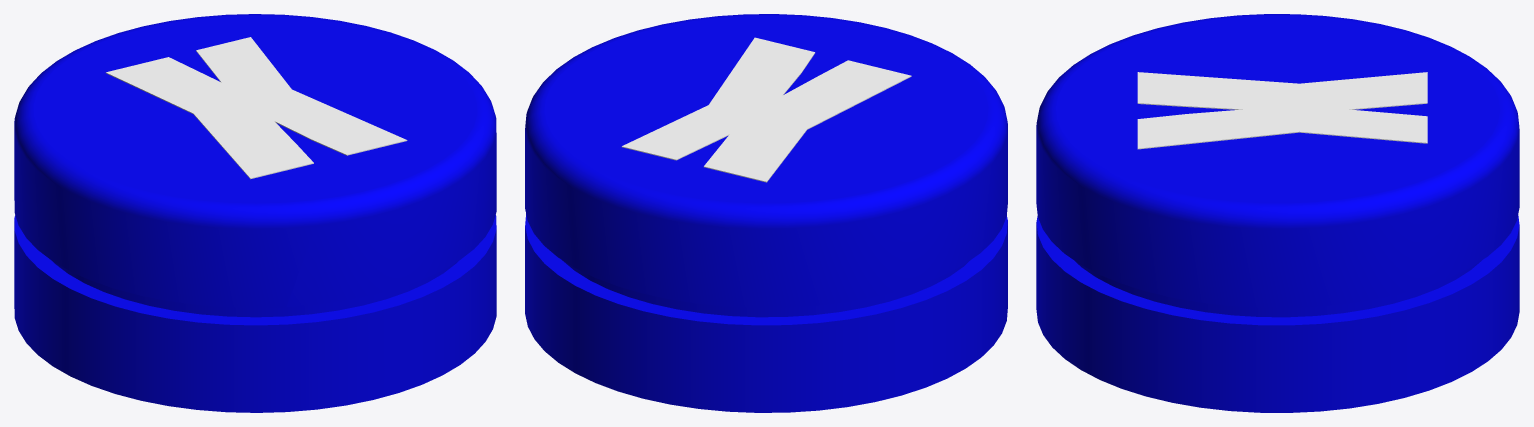
File: nubot_frame10_blue.dae
3 views of the same model, side by side, from view 1: azimuth 30°, elevation 25°; view 2: azimuth 150°, elevation 25°; view 3: azimuth 270°, elevation 25° (orthographic).
Parts seen in each view (by area): view 1: SketchUp (×3), X; view 2: SketchUp (×3), X; view 3: SketchUp (×3), X.
Boxes of the visible parts, x1,y1,x2,y2 form: SketchUp (×3): (14,14,496,412); X: (105,37,407,179); SketchUp (×3): (525,14,1007,412); X: (621,37,911,182); SketchUp (×3): (1036,14,1519,412); X: (1137,72,1427,149).
Bounding box in the file's own units: 19.66 × 19.68 × 9.09.
